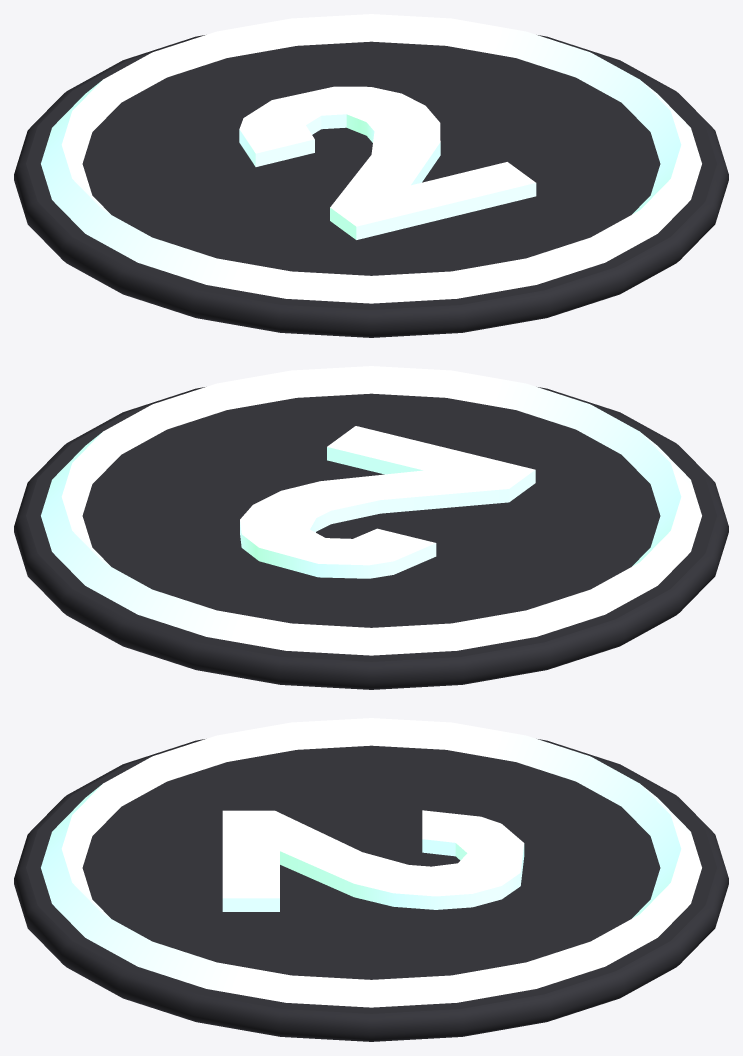
File: kr_joinpad_2_on.glb
3 renders of one model, top to bottom at view 1: azimuth 30°, elevation 25°; view 2: azimuth 150°, elevation 25°; view 3: azimuth 270°, elevation 25°, orthographic.
Visible parts, largest first — view 1: vc_m0_r4, kr_joinpad_2_on_neongreen; view 2: vc_m0_r4, kr_joinpad_2_on_neongreen; view 3: vc_m0_r4, kr_joinpad_2_on_neongreen.
Boxes of the visible parts, left/top/right/bottom form: vc_m0_r4: left=14, top=35, right=728, bottom=337; kr_joinpad_2_on_neongreen: left=41, top=14, right=701, bottom=303; vc_m0_r4: left=14, top=387, right=728, bottom=689; kr_joinpad_2_on_neongreen: left=41, top=366, right=701, bottom=655; vc_m0_r4: left=14, top=739, right=728, bottom=1041; kr_joinpad_2_on_neongreen: left=41, top=718, right=701, bottom=1007.
Size of the model in its own units: 1.2 by 0.085 by 1.2.
